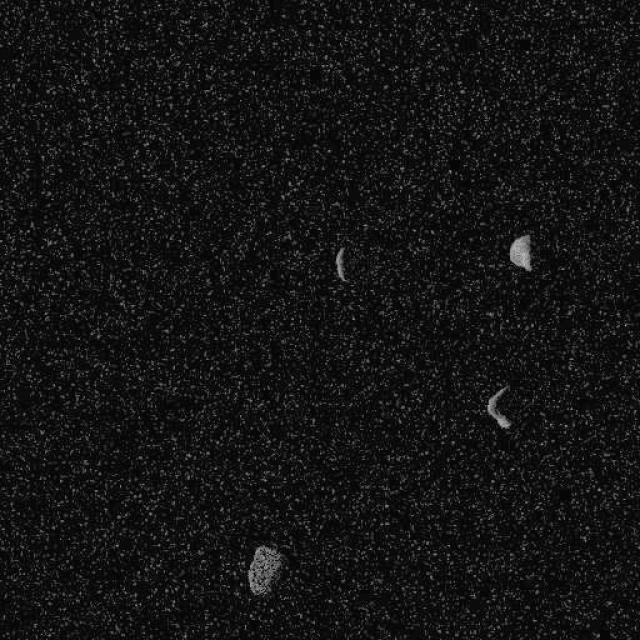D2: (246, 542, 286, 596), (485, 382, 513, 430), (508, 234, 532, 271), (334, 246, 346, 282)
